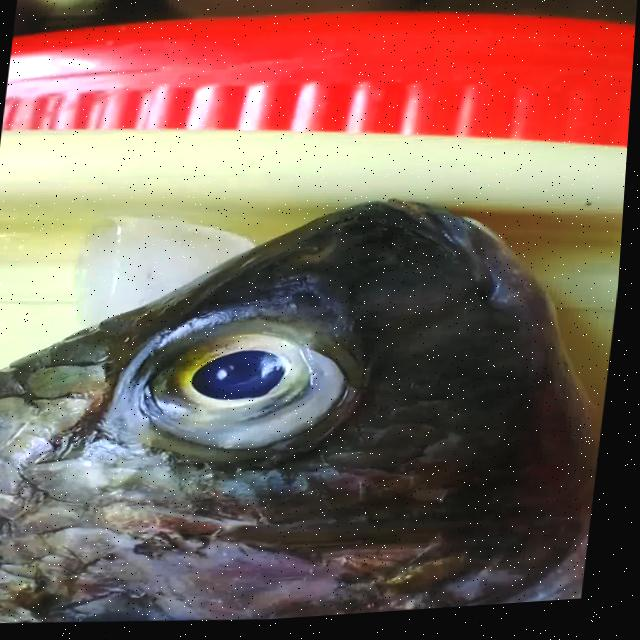Fresh: (125, 299, 348, 463)
